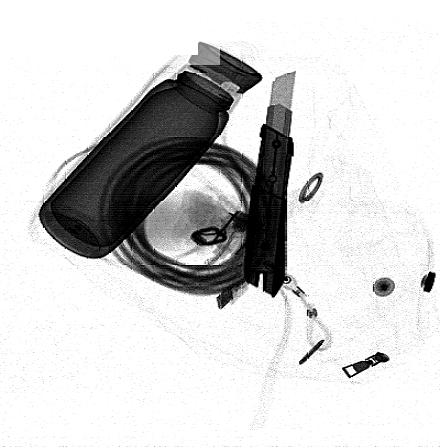Knife: (244, 70, 295, 299)
